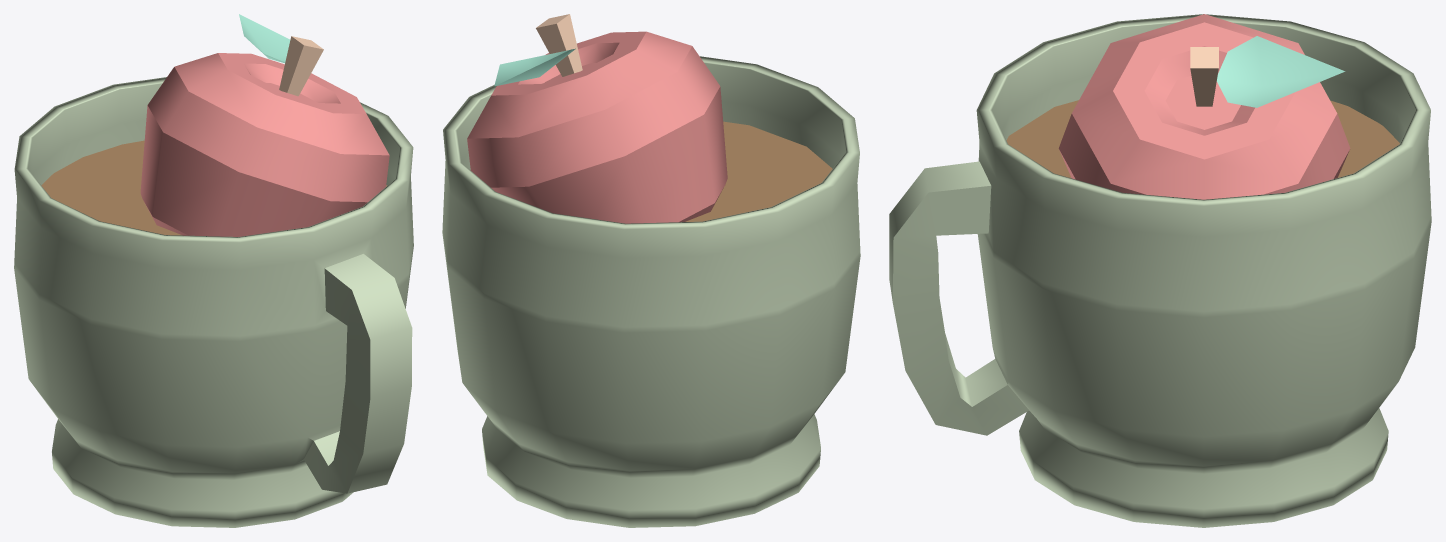
Rendered from drink10_fruity.fbx.
3 renders of one model, left to right at view 1: azimuth 30°, elevation 25°; view 2: azimuth 150°, elevation 25°; view 3: azimuth 270°, elevation 25°, orthographic. The views are drawn at different scales.
Parts seen in each view (by area): view 1: nurbsToPoly1, apple, pDisc1; view 2: nurbsToPoly1, apple, pDisc1; view 3: nurbsToPoly1, apple, pDisc1.
Part boxes in pixels (x1=…): nurbsToPoly1: x1=14, y1=77, x2=413, y2=527; apple: x1=140, y1=14, x2=389, y2=236; pDisc1: x1=41, y1=140, x2=386, y2=235; nurbsToPoly1: x1=442, y1=56, x2=860, y2=527; apple: x1=467, y1=14, x2=727, y2=223; pDisc1: x1=685, y1=121, x2=832, y2=221; nurbsToPoly1: x1=889, y1=14, x2=1431, y2=527; apple: x1=1058, y1=14, x2=1350, y2=199; pDisc1: x1=1006, y1=100, x2=1399, y2=178.
Size of the model in its own units: 30.65 by 33.38 by 36.48.
